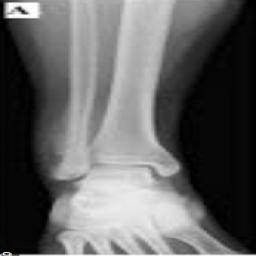cancer: (36, 109, 94, 188)
